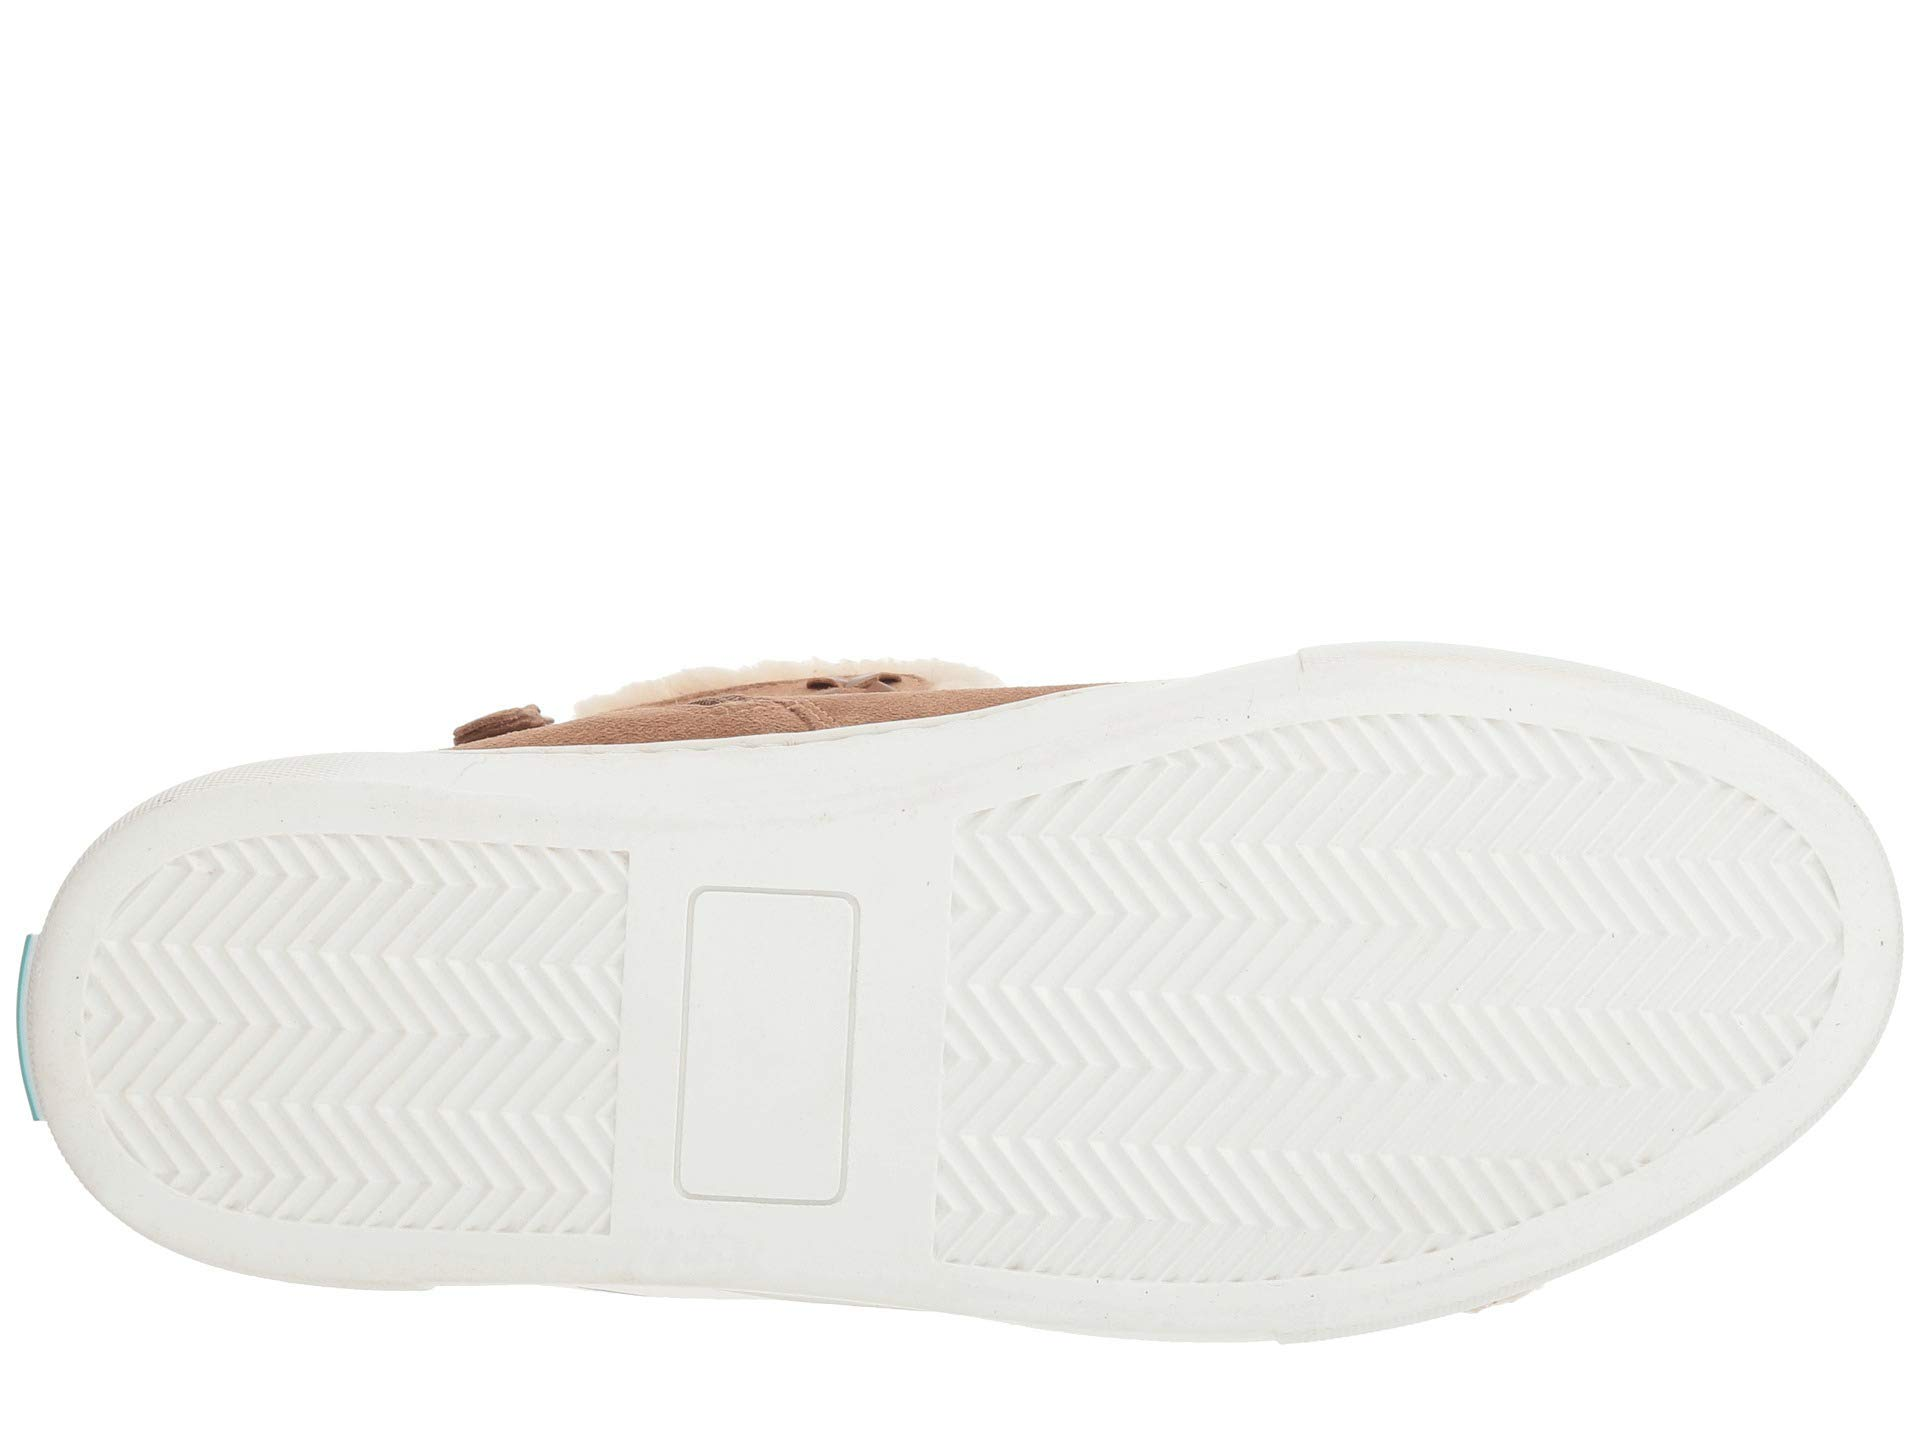chevron: (1017, 830, 1429, 1243), (1436, 737, 1761, 1060), (156, 908, 482, 1216)
quad: (643, 849, 909, 1240)
